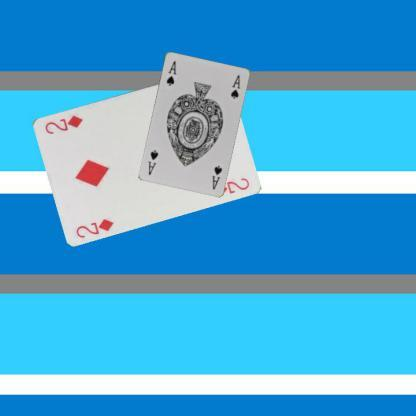2d: (73, 216, 115, 238)
As: (163, 58, 177, 86), (209, 163, 223, 190)
